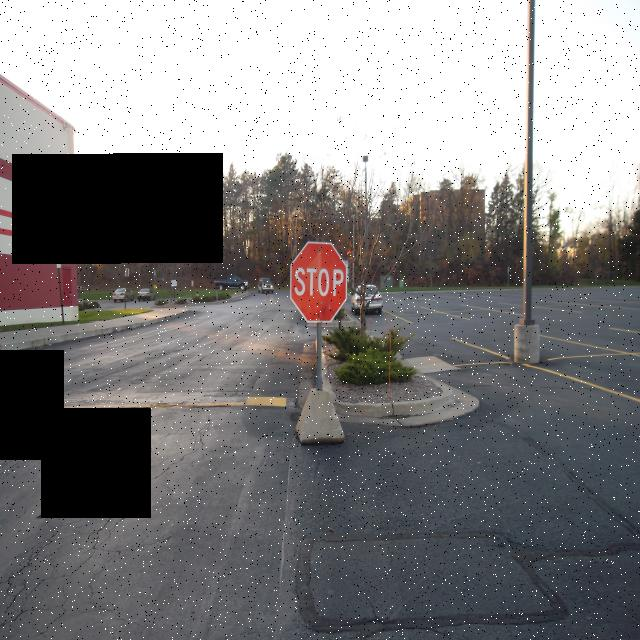stop: (288, 238, 350, 326)
